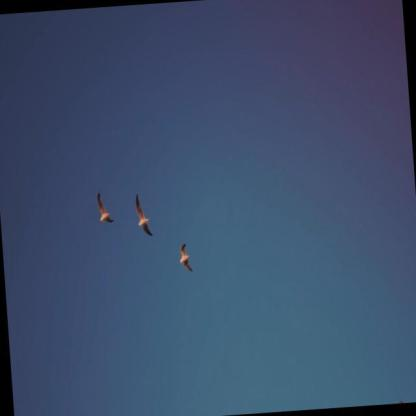bird: (134, 192, 154, 237), (96, 188, 116, 224), (178, 242, 194, 274)
